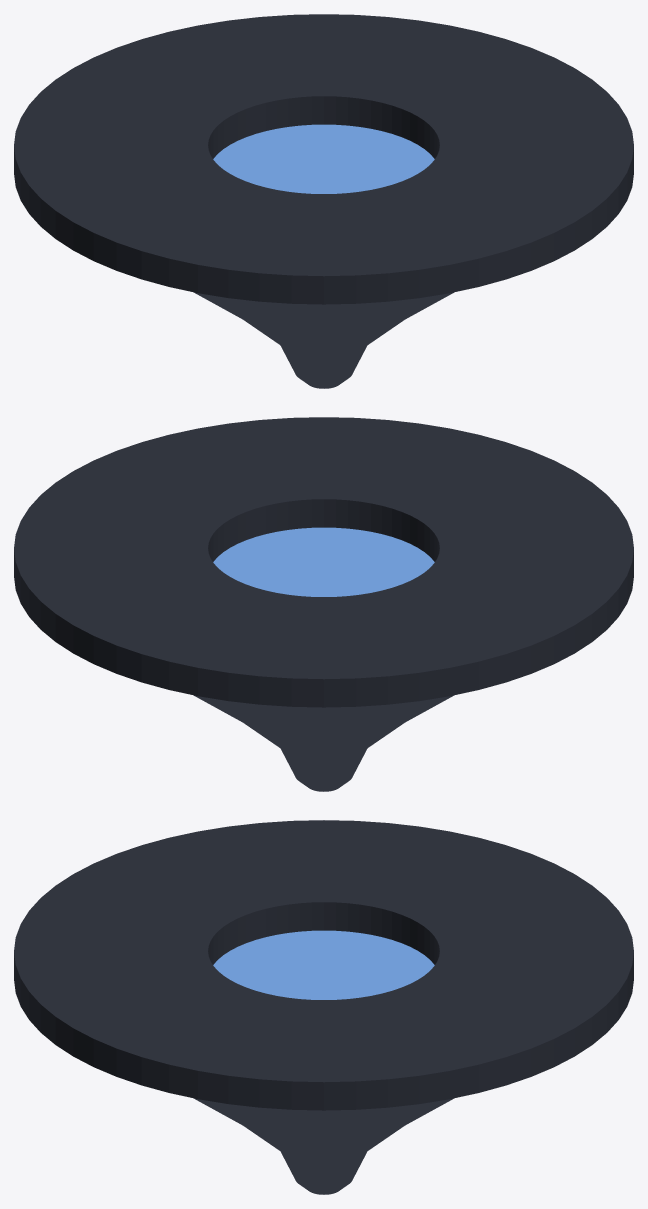
The model's file is tip_needle_stamina.glb.
The picture shows the model from 3 angles, top to bottom: view 1: azimuth 30°, elevation 25°; view 2: azimuth 150°, elevation 25°; view 3: azimuth 270°, elevation 25°; orthographic projection.
Visible parts, largest first — view 1: GEO_tip_needle_stamina_NSS_V1_COLLAR, GEO_tip_needle_stamina_BODY; view 2: GEO_tip_needle_stamina_NSS_V1_COLLAR, GEO_tip_needle_stamina_BODY; view 3: GEO_tip_needle_stamina_NSS_V1_COLLAR, GEO_tip_needle_stamina_BODY.
Boxes of the visible parts, bbox=[...] form: GEO_tip_needle_stamina_NSS_V1_COLLAR: bbox=[14, 14, 633, 304]; GEO_tip_needle_stamina_BODY: bbox=[194, 124, 453, 388]; GEO_tip_needle_stamina_NSS_V1_COLLAR: bbox=[14, 417, 633, 707]; GEO_tip_needle_stamina_BODY: bbox=[194, 527, 453, 791]; GEO_tip_needle_stamina_NSS_V1_COLLAR: bbox=[14, 820, 633, 1110]; GEO_tip_needle_stamina_BODY: bbox=[194, 930, 453, 1194].
Size of the model in its own units: 0.0214 by 0.009 by 0.0214.
